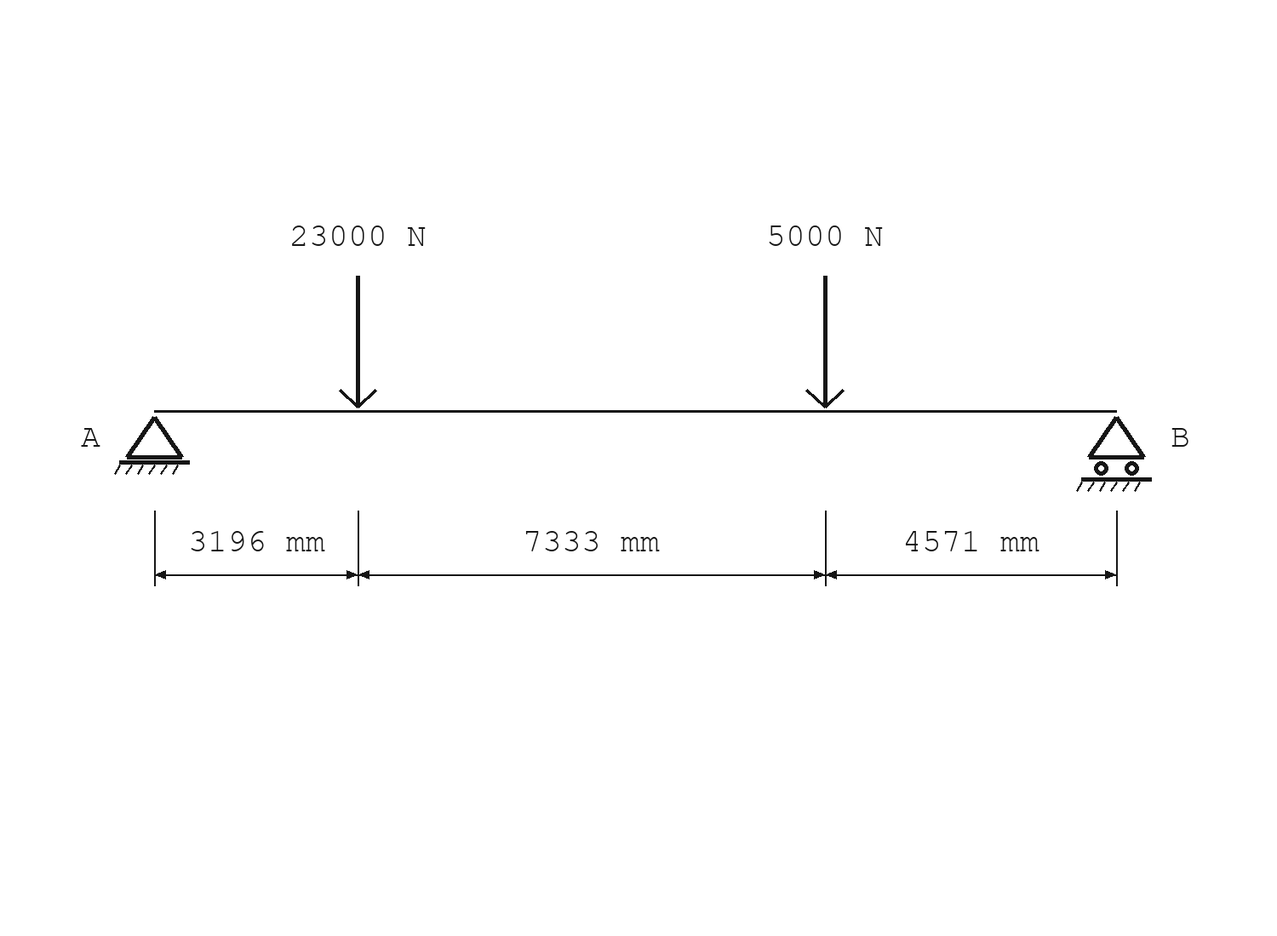pin_support: (114, 416, 190, 475)
point_load: (805, 276, 845, 408), (339, 276, 377, 408)
roller_support: (1076, 416, 1152, 492)
